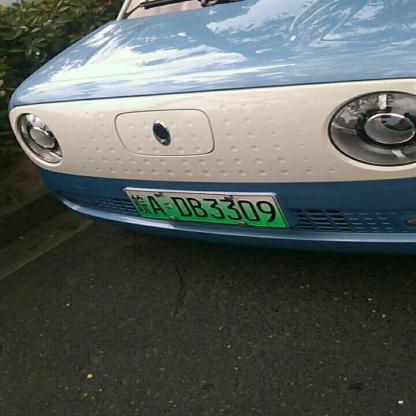lp: (125, 188, 288, 227)
